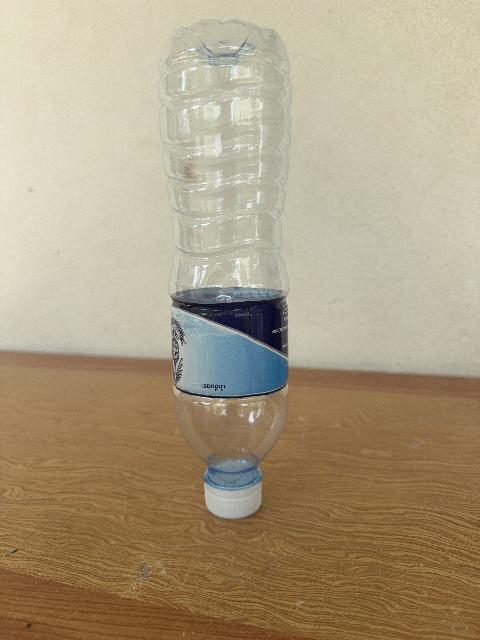bottle: (160, 21, 290, 518)
